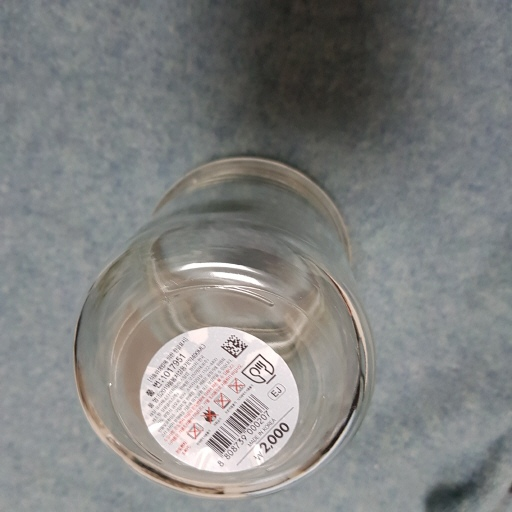Glass_5: (66, 159, 374, 495)
